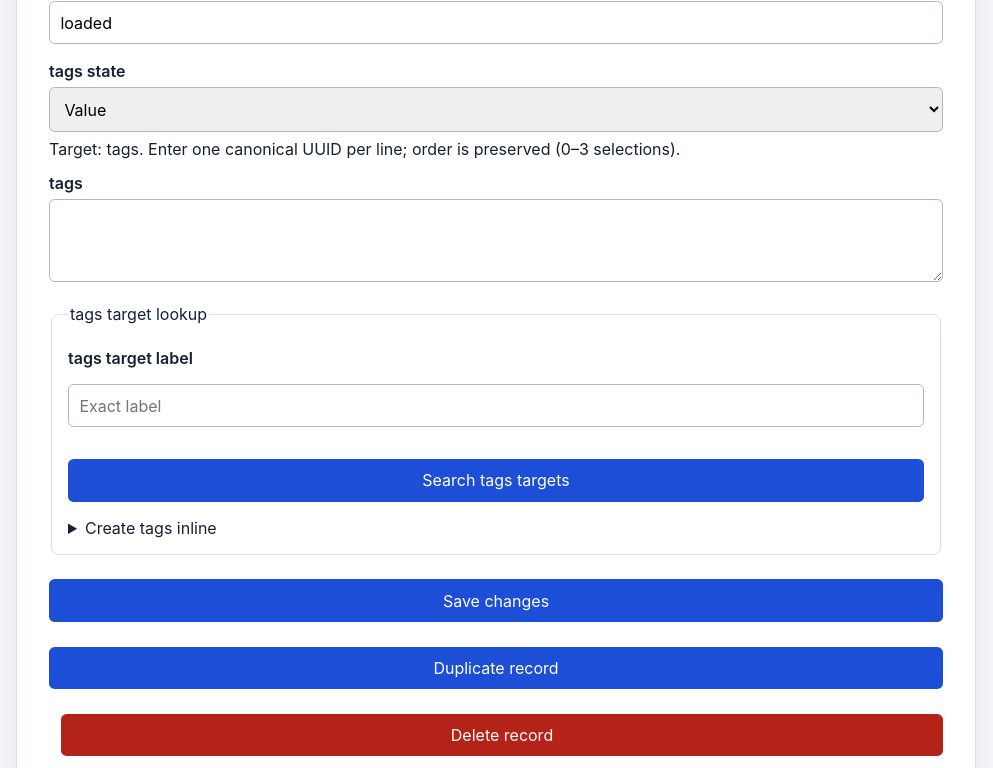
it: record editor page › selects a relation target from the picker into the ordered draft
(page scrolled)
Type "release" into the dropdown labelled "tags target label" at coordinates (496, 406), box [68, 384, 924, 427]
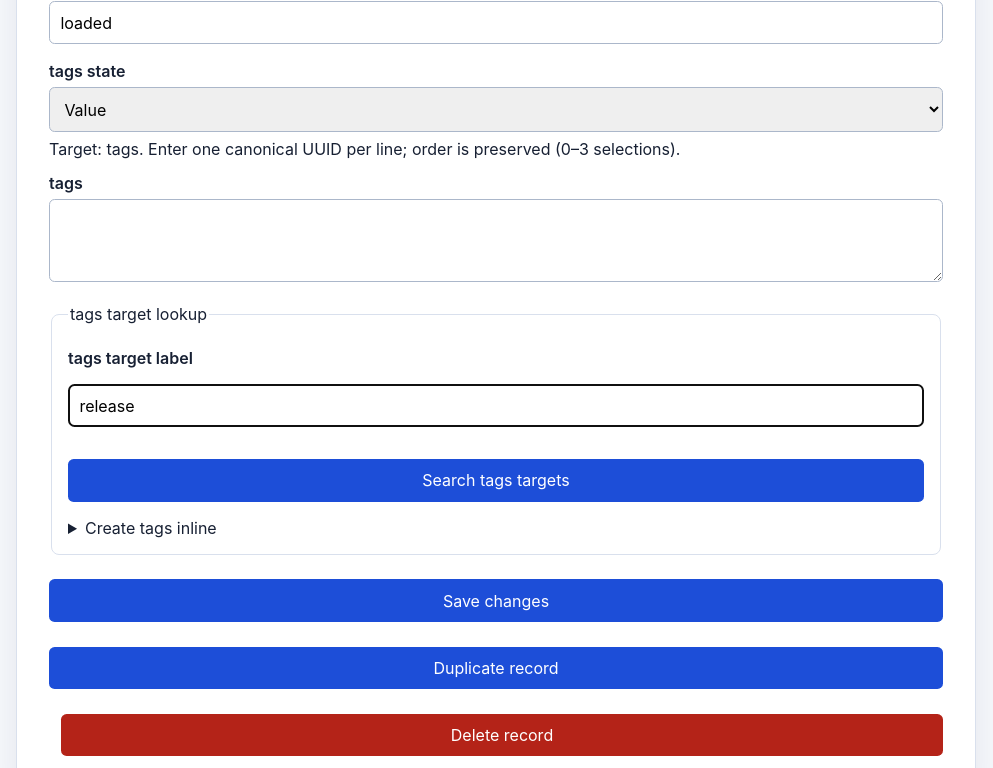
Click the button "Search tags targets" at coordinates (496, 480), box [68, 459, 924, 502]
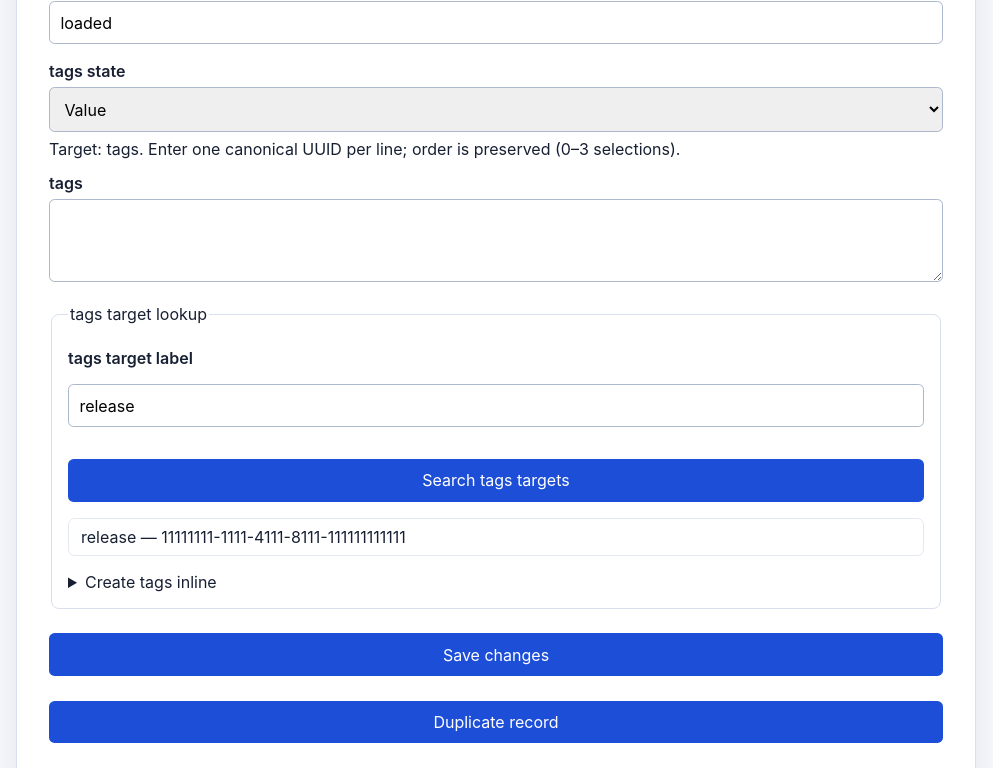
Click the option "release — 11111111-1111-4111-8111-111111111111" at coordinates (243, 537), box [81, 527, 406, 547]
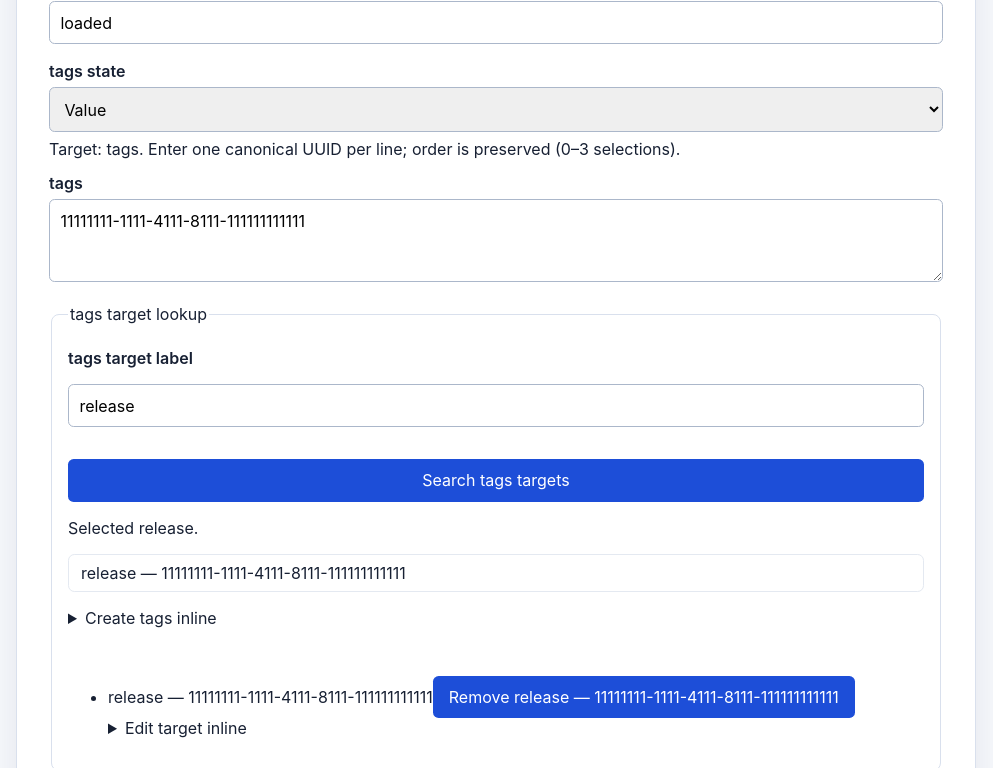
Now the text box labelled "tags" holds "11111111-1111-4111-8111-111111111111", box [49, 199, 943, 282]
